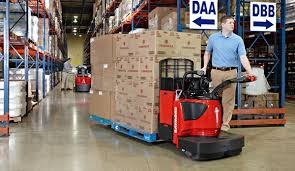Pallet Jack: (89, 56, 260, 163)
